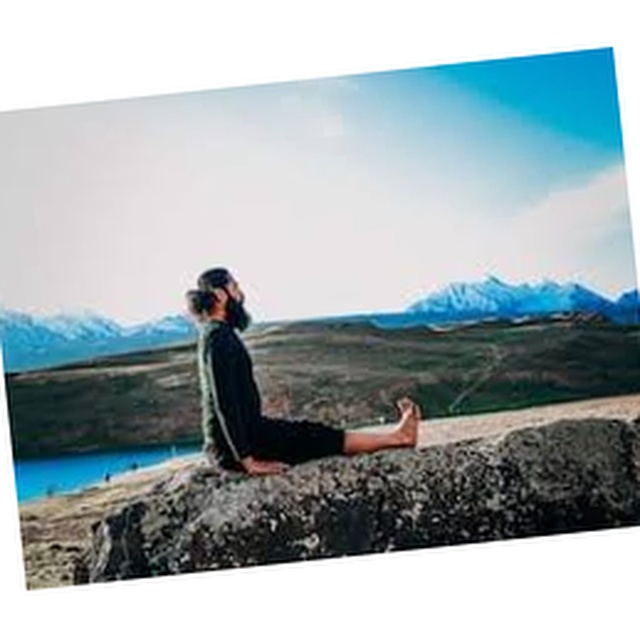Staff_Pose: (182, 268, 419, 477)
